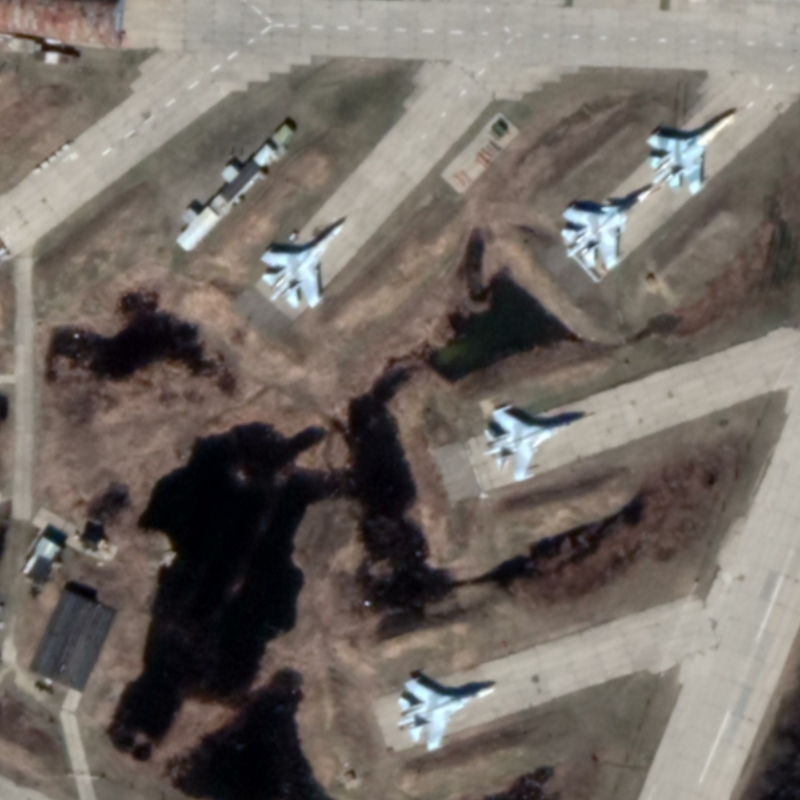A1: (479, 400, 598, 484), (644, 108, 746, 200), (257, 216, 351, 311), (393, 674, 501, 754)
A19: (558, 185, 654, 273)
